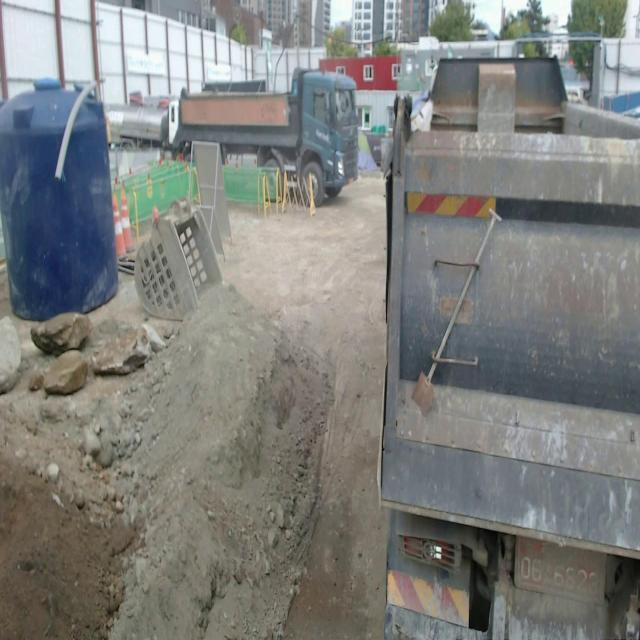stone: (90, 325, 153, 375), (31, 312, 92, 355), (43, 350, 89, 395), (0, 317, 21, 393)
white-sand: (0, 181, 385, 639)
